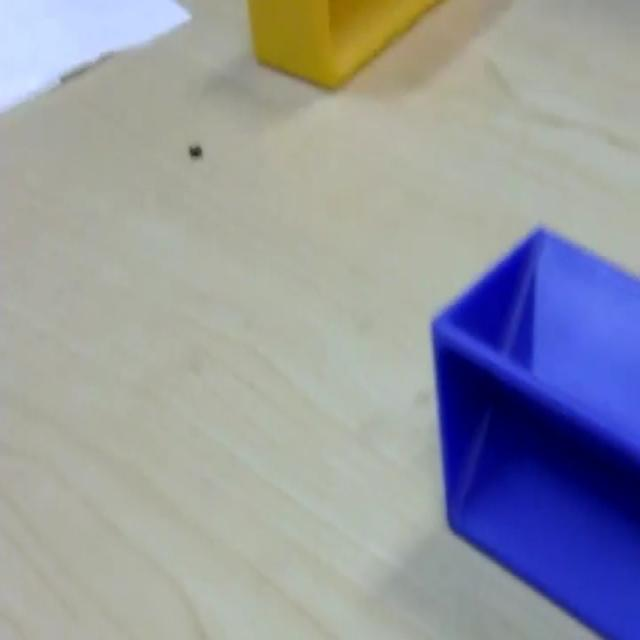blue_block: (428, 221, 638, 636)
yellow_block: (246, 0, 444, 91)
